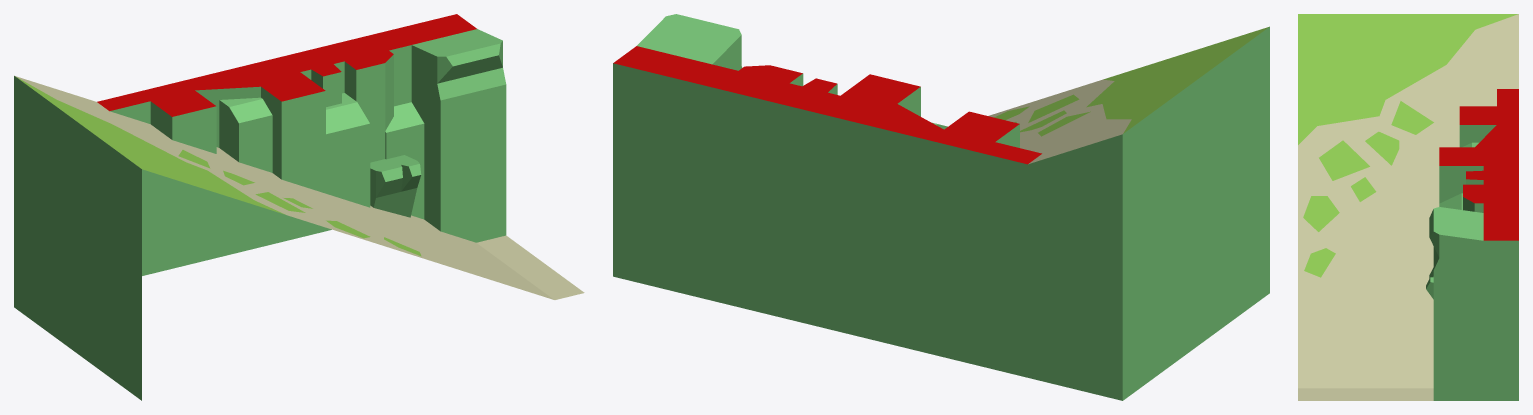
File: x_oo_ground_23_1_rmstrd.fbx
3 views of the same model, side by side, from view 1: azimuth 30°, elevation 25°; view 2: azimuth 150°, elevation 25°; view 3: azimuth 270°, elevation 25° (orthographic). The views are drawn at different scales.
Parts seen in each view (by area): view 1: x_oo_ground_23_1_rmstrd1; view 2: x_oo_ground_23_1_rmstrd1; view 3: x_oo_ground_23_1_rmstrd1.
Boxes of the visible parts, box(x1,y1,x2,y2) form: x_oo_ground_23_1_rmstrd1: box(14, 14, 584, 400); x_oo_ground_23_1_rmstrd1: box(613, 14, 1269, 400); x_oo_ground_23_1_rmstrd1: box(1298, 14, 1518, 400).
Bounding box in the file's own units: 10 × 5 × 5.
